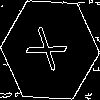X: (25, 25, 76, 78)
